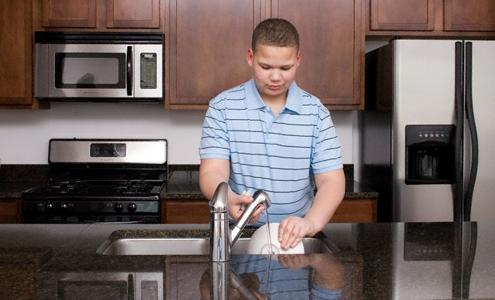person: (198, 19, 348, 251)
